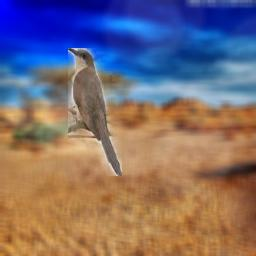Cuckoo: (68, 48, 122, 176)
